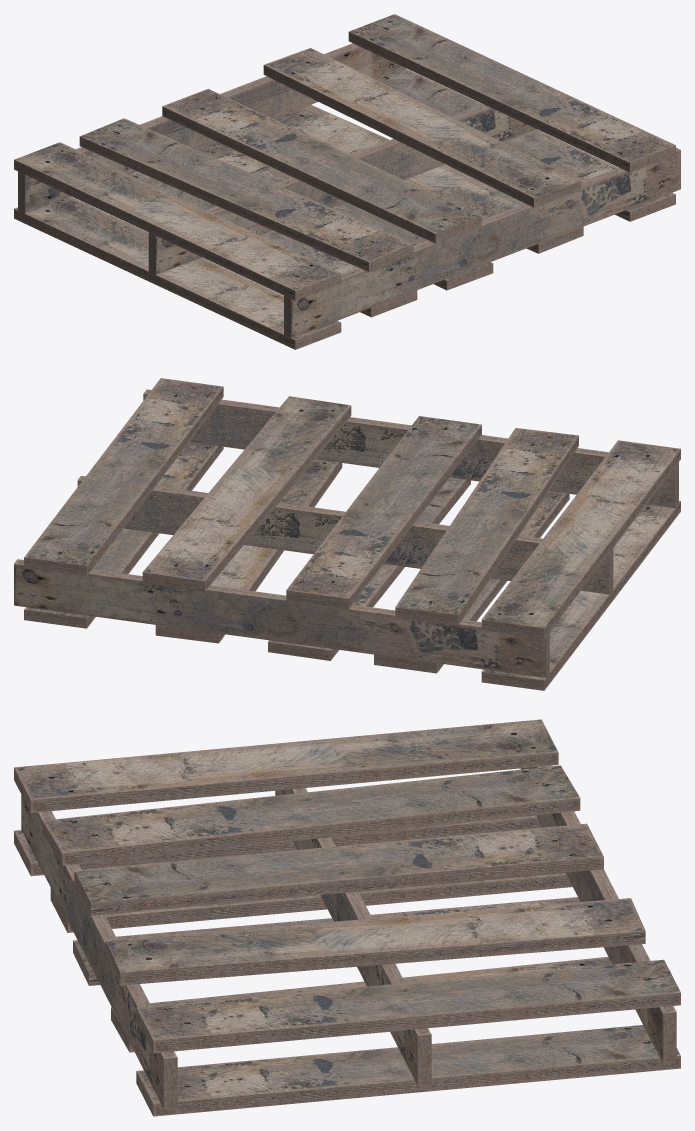
The model's file is Palet_v1_single (8).glb.
The picture shows the model from 3 angles, top to bottom: view 1: azimuth 30°, elevation 25°; view 2: azimuth 150°, elevation 25°; view 3: azimuth 270°, elevation 25°; orthographic projection. The views are drawn at different scales.
Visible parts, largest first — view 1: Palet_v1_single (8); view 2: Palet_v1_single (8); view 3: Palet_v1_single (8).
Part boxes in pixels (<box>): Palet_v1_single (8): <box>14,14,680,349</box>; Palet_v1_single (8): <box>14,378,680,690</box>; Palet_v1_single (8): <box>14,719,680,1116</box>.
Bounding box in the file's own units: 2 × 0.2164 × 1.72.
Materials: 1 (1 with a texture image).
